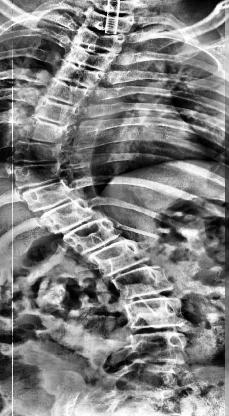Vertebrae: (87, 242, 155, 278), (125, 331, 190, 365), (114, 267, 176, 301), (64, 219, 122, 252), (124, 298, 187, 328), (40, 202, 99, 233), (23, 178, 75, 212), (83, 9, 135, 37), (24, 117, 72, 147), (12, 159, 67, 185), (75, 28, 126, 56), (9, 140, 64, 164), (58, 63, 108, 89), (45, 80, 91, 106), (68, 47, 114, 73), (35, 102, 79, 127)
